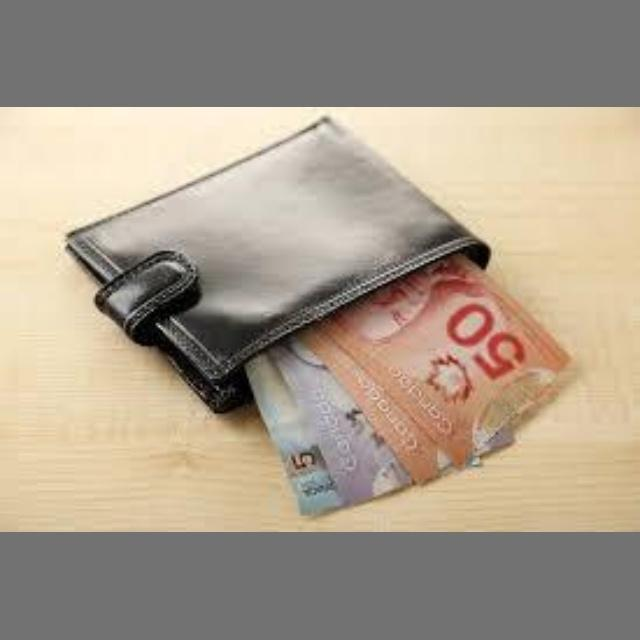Wallet: (56, 125, 524, 415)
